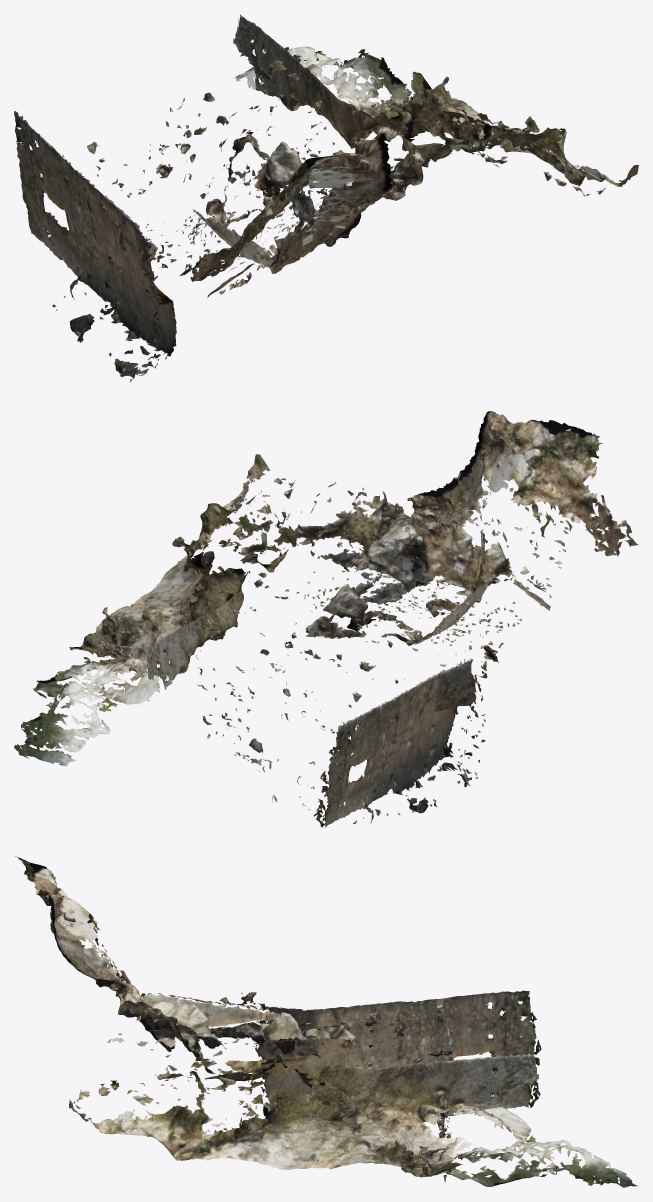
3 views of the same model, one above another, from view 1: azimuth 30°, elevation 25°; view 2: azimuth 150°, elevation 25°; view 3: azimuth 270°, elevation 25° (orthographic). The views are drawn at different scales.
Size of the model in its own units: 12.96 by 8.48 by 17.15.
Materials: 1 (1 with a texture image).
